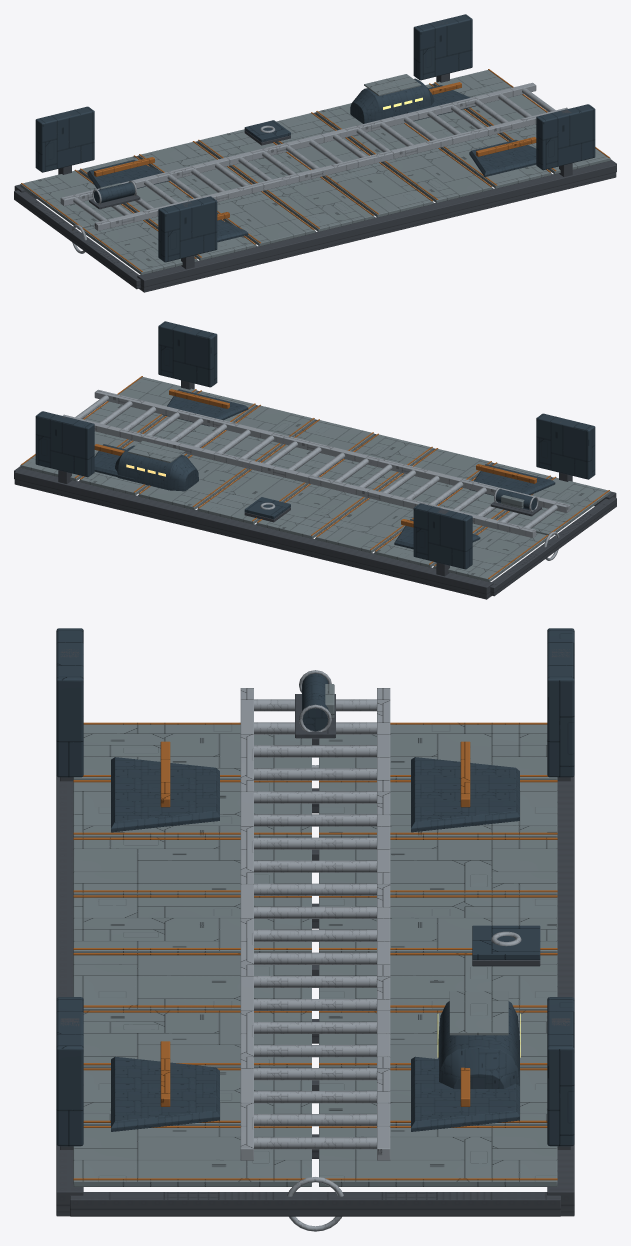
Rendered from large_ore_transfer_terrace_lod0.glb.
The picture shows the model from 3 angles, top to bottom: view 1: azimuth 30°, elevation 25°; view 2: azimuth 150°, elevation 25°; view 3: azimuth 270°, elevation 25°; orthographic projection. The views are drawn at different scales.
Parts seen in each view (by area): view 1: LOD0_Hull, LOD0_Armor, LOD0_BrushedMetal, LOD0_Mechanical, LOD0_Livery; view 2: LOD0_Hull, LOD0_Armor, LOD0_BrushedMetal, LOD0_Mechanical, LOD0_Livery; view 3: LOD0_Hull, LOD0_Armor, LOD0_BrushedMetal, LOD0_Mechanical, LOD0_Livery.
Part boxes in pixels (x1=…): LOD0_Hull: x1=20, y1=70, x2=610, y2=275; LOD0_Armor: x1=35, y1=14, x2=595, y2=262; LOD0_BrushedMetal: x1=60, y1=82, x2=568, y2=253; LOD0_Mechanical: x1=14, y1=21, x2=616, y2=292; LOD0_Livery: x1=21, y1=69, x2=609, y2=271; LOD0_Hull: x1=20, y1=377, x2=610, y2=582; LOD0_Armor: x1=35, y1=321, x2=595, y2=569; LOD0_BrushedMetal: x1=62, y1=389, x2=570, y2=560; LOD0_Mechanical: x1=14, y1=328, x2=616, y2=599; LOD0_Livery: x1=21, y1=376, x2=609, y2=578; LOD0_Hull: x1=73, y1=684, x2=557, y2=1186; LOD0_Armor: x1=56, y1=628, x2=574, y2=1146; LOD0_BrushedMetal: x1=240, y1=670, x2=521, y2=1231; LOD0_Mechanical: x1=56, y1=649, x2=574, y2=1216; LOD0_Livery: x1=73, y1=722, x2=557, y2=1180.
Bounding box in the file's own units: 81.4 × 13.22 × 38.
6 materials, 5 textured.
